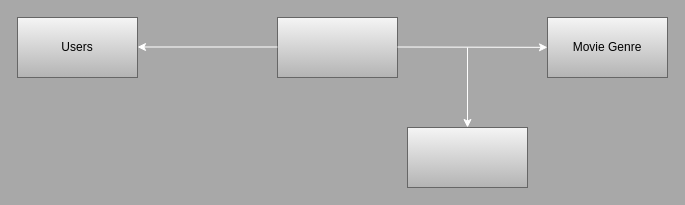
Some shapes in this 685 by 205 pixel diagram are drawn without their labels. Here are the shapes that lost their labels. From the top down, the centre of each, then its label:
(337,47): MovieAPI
(467,157): Movie ID
